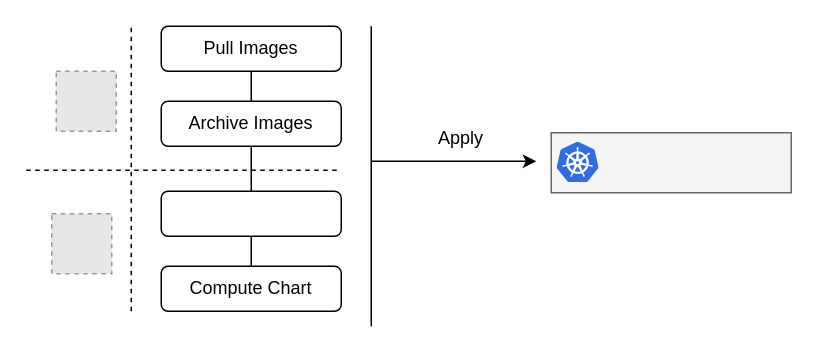
Image size: 818x354. Some labels were removed from this diagram. Grey dashed boxes stand in for pictures. Each missing label, with the box of its shape:
Fetch Chart Deps: (160, 190, 341, 236)
Offline Environment: (550, 131, 791, 193)
